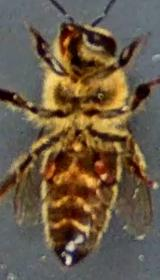varroa_mite: (88, 154, 128, 198), (31, 146, 60, 190)
